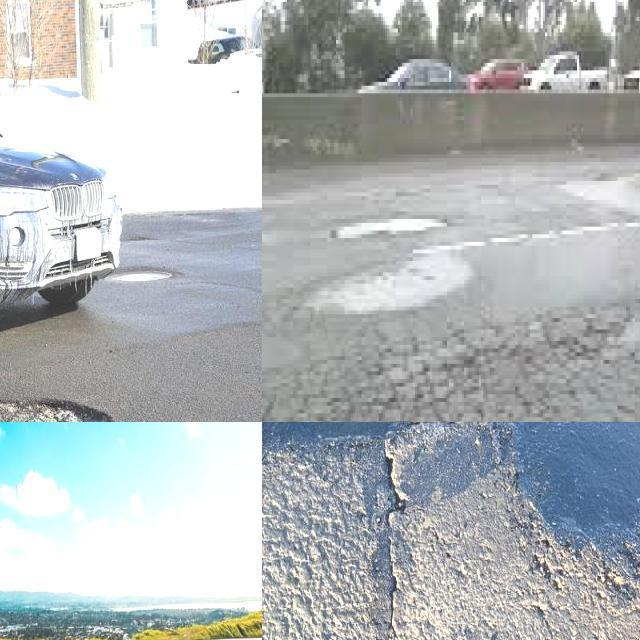Pothole: (494, 422, 640, 561), (601, 299, 626, 314)
